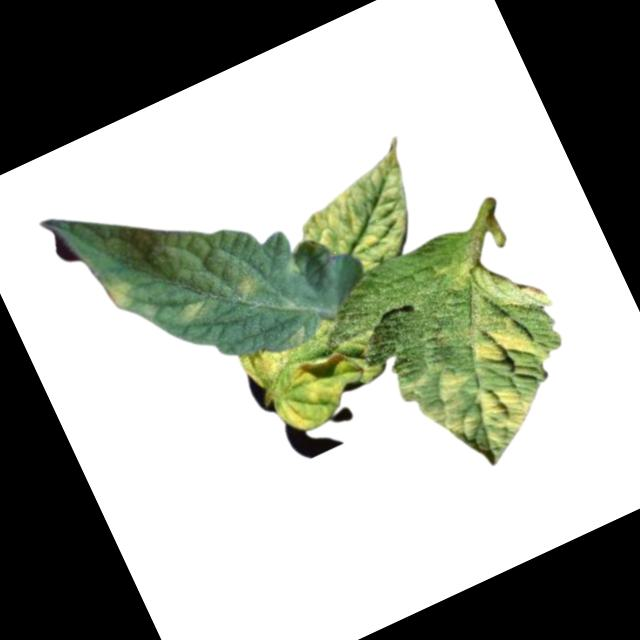Leaf_Mold: (362, 243, 604, 490), (279, 137, 441, 291), (261, 342, 376, 441), (232, 336, 294, 394), (97, 269, 144, 316), (168, 291, 218, 333), (227, 269, 264, 306)
